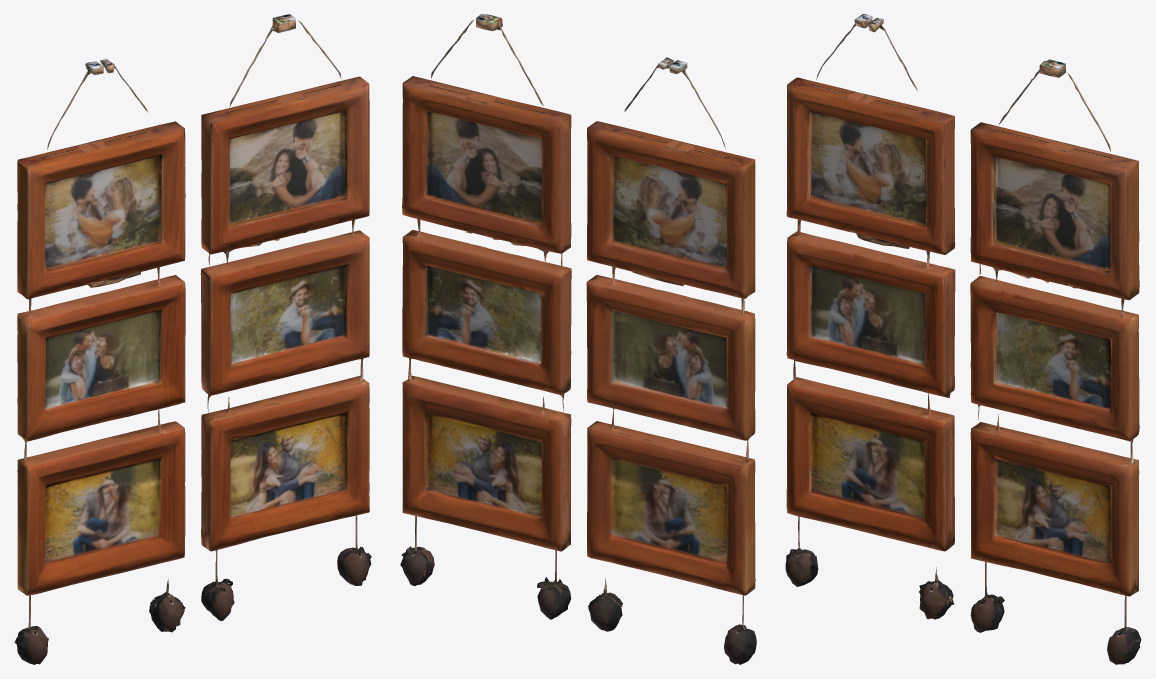
File: Memories_in_Frames_0421153752_texture.glb
3 views of the same model, side by side, from view 1: azimuth 30°, elevation 25°; view 2: azimuth 150°, elevation 25°; view 3: azimuth 330°, elevation 25° (orthographic).
Size of the model in its own units: 1.26 by 2 by 0.1126.
Materials: 1 (1 with a texture image).
